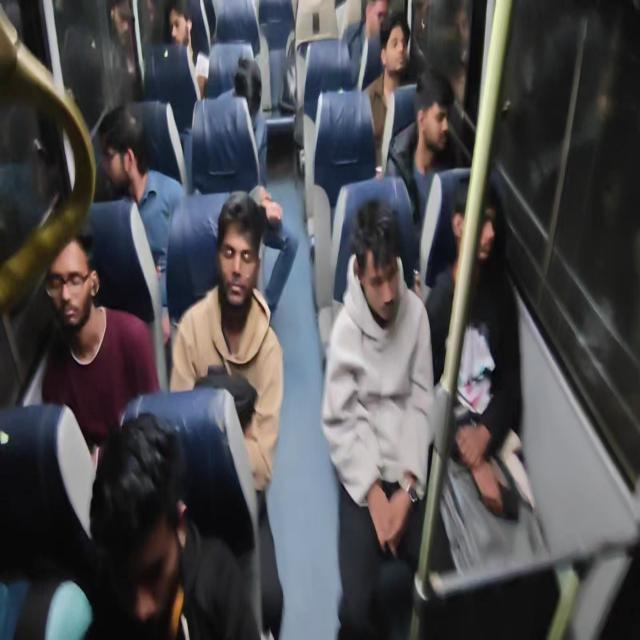person: (5, 0, 551, 638), (169, 188, 286, 637), (321, 198, 436, 638), (84, 410, 262, 639), (424, 176, 525, 576), (39, 230, 160, 452), (97, 104, 185, 307), (384, 66, 457, 230), (361, 11, 415, 174), (216, 56, 268, 184), (167, 1, 210, 100)
